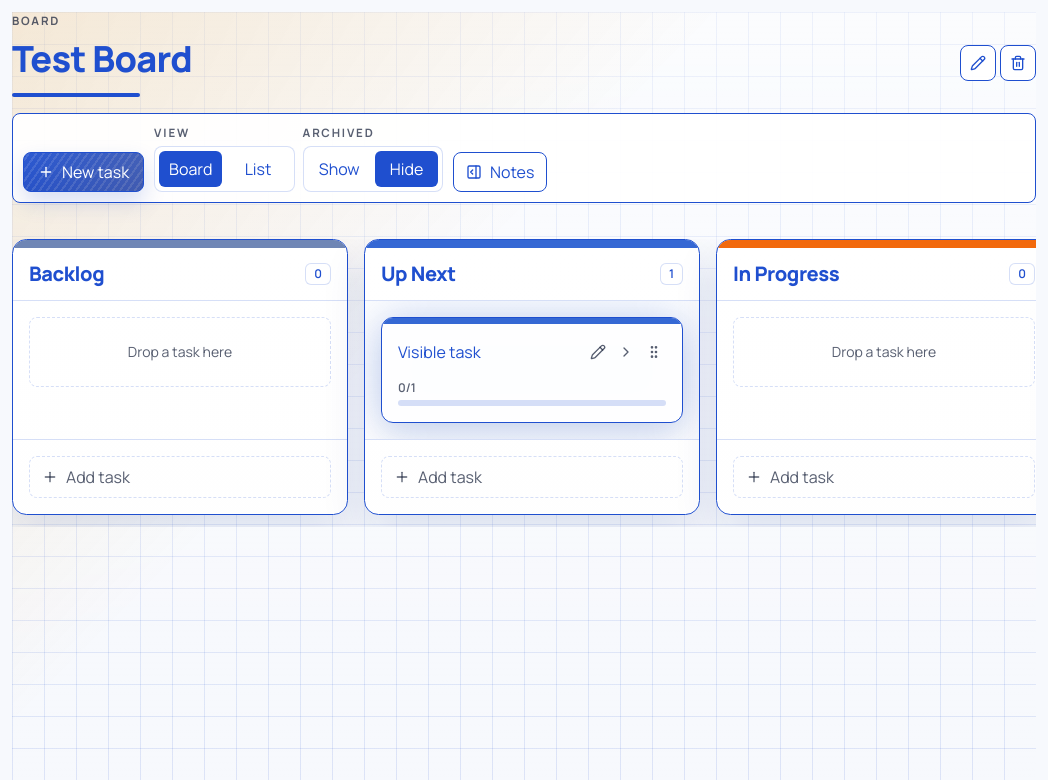
SubtasksCardPanel remove and reorder › subtask rows don't carry a competing CSS transition alongside dnd-kit's own
Click the button named "Open subtasks menu" at (626, 352), box [614, 340, 638, 364]
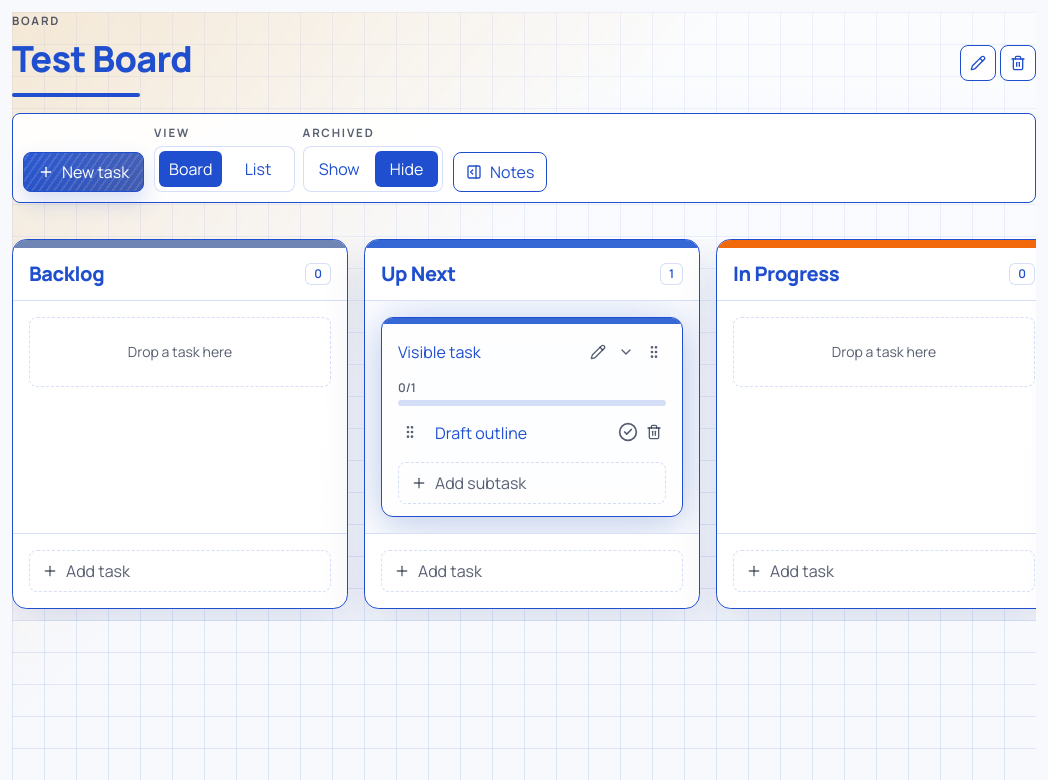
Expected: the 9th element showing "Draft outline" is shown, [398, 414, 666, 450]
